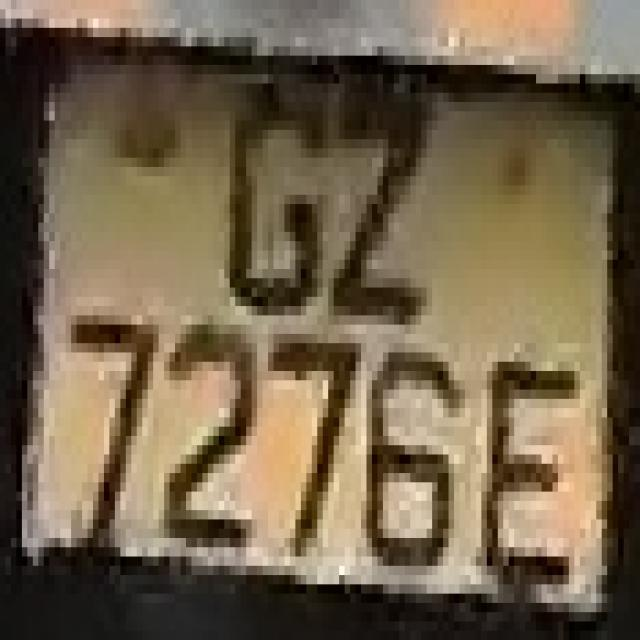2: (158, 315, 262, 566)
6: (356, 315, 460, 594)
7: (252, 288, 350, 575), (54, 278, 148, 538)
E: (470, 325, 591, 603)
G: (214, 74, 318, 325)
Z: (306, 74, 422, 334)
